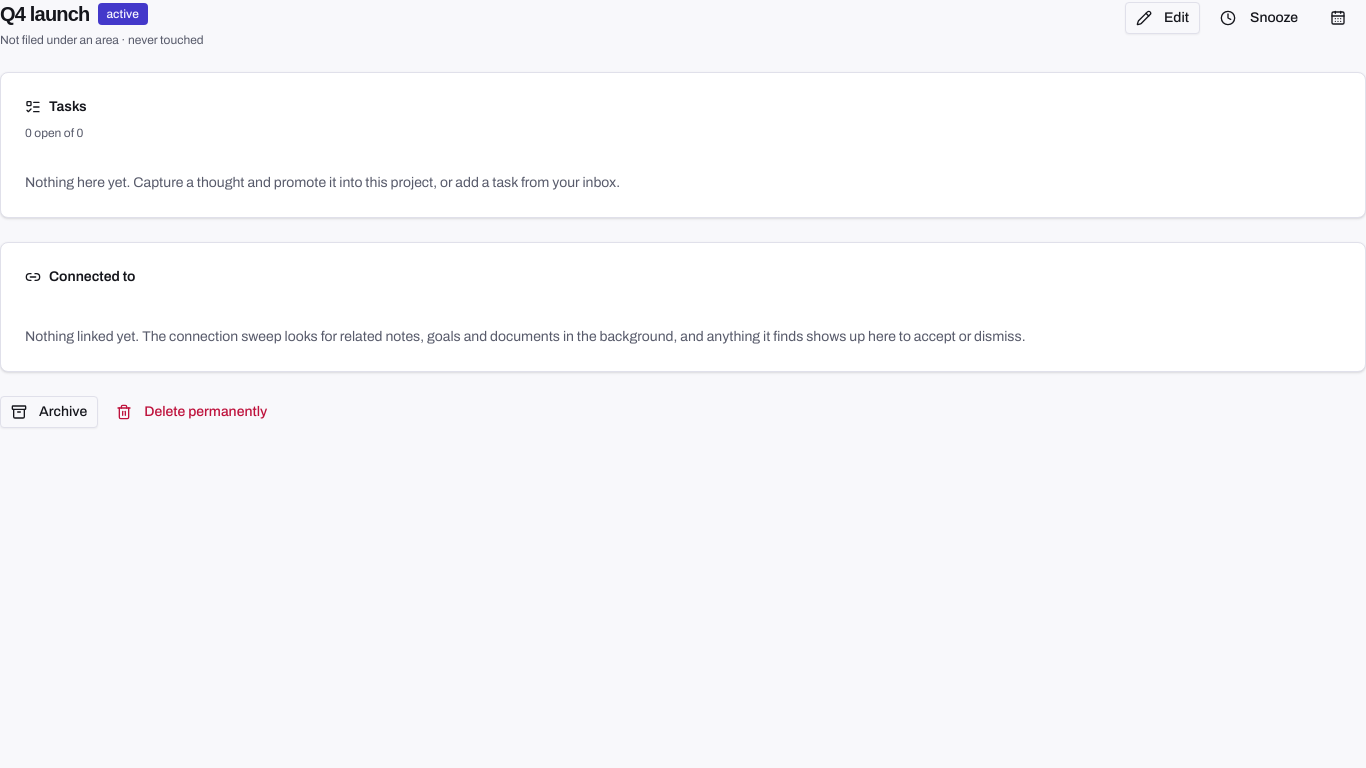
ProjectDetail › opens the edit form, pre-filled with this project, when Edit is clicked
Click the button "Edit" at [1162, 18], box x1=1125 y1=2 x2=1200 y2=34
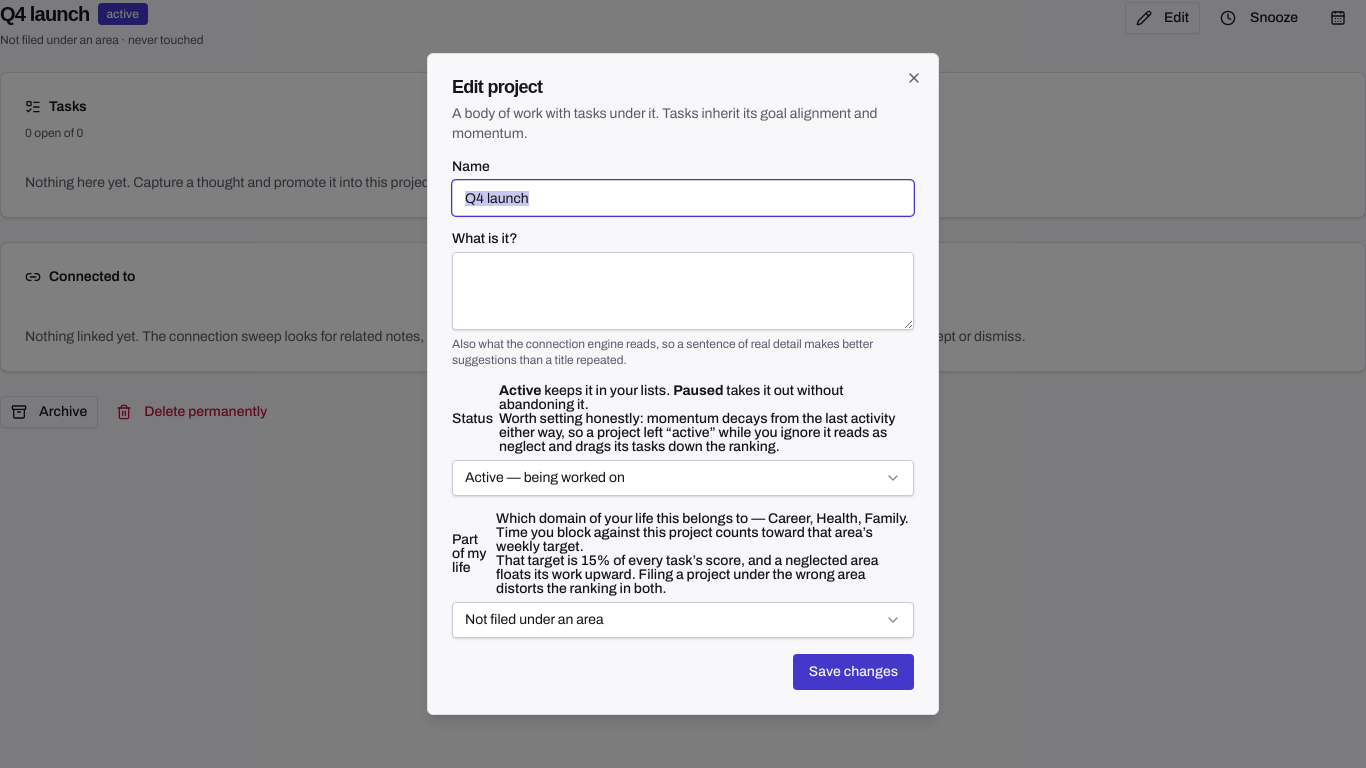
Check: the field labelled "Name" holds "Q4 launch", box x1=452 y1=180 x2=914 y2=216
